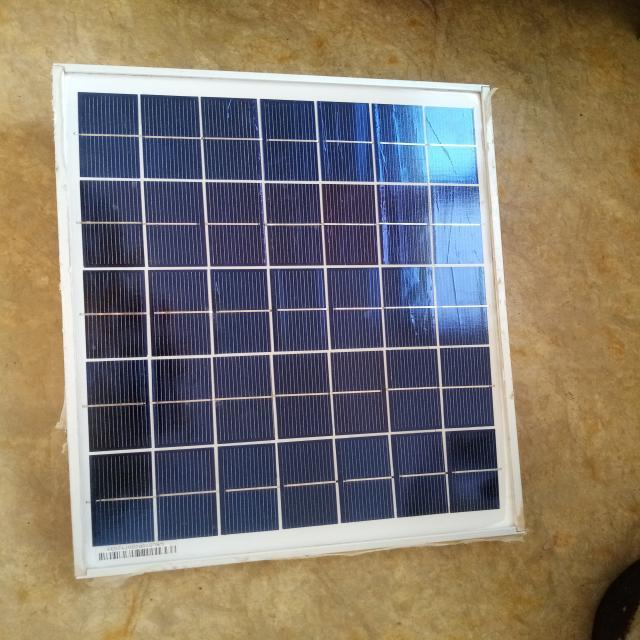no faulty: (55, 60, 527, 574)
